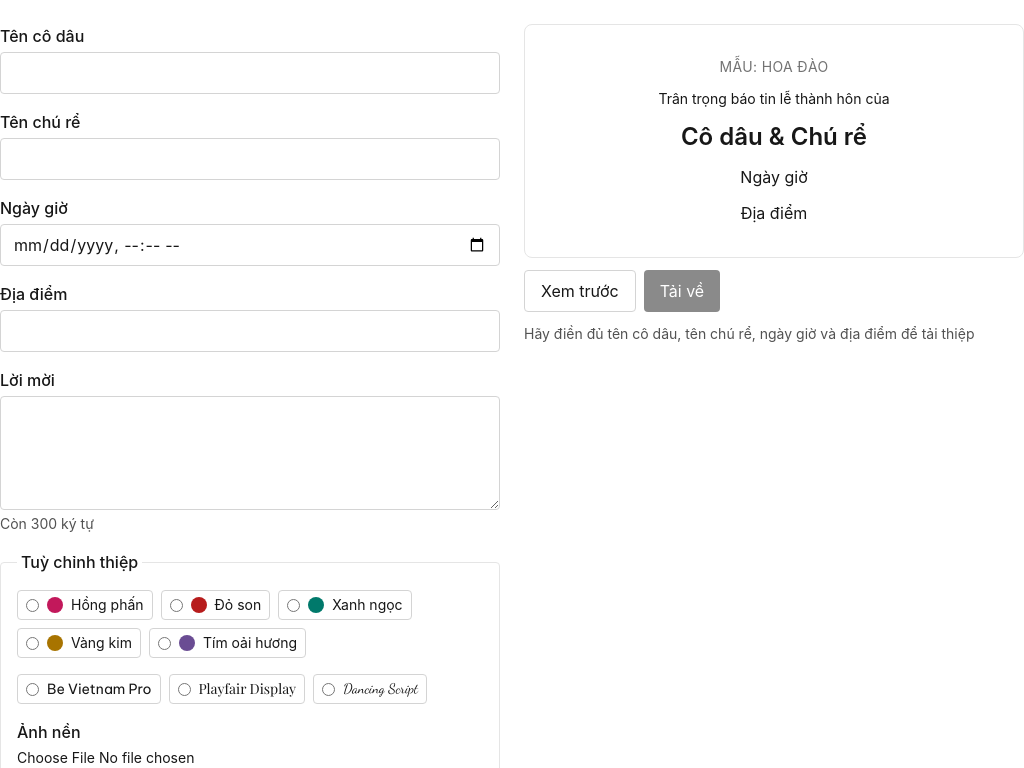
Scenario: Xem trước opens the invitation full screen and Esc returns with input kept
In the field labelled "Tên cô dâu": (250, 73) [0, 52, 500, 94], type "Nguyễn Thị Hằng"
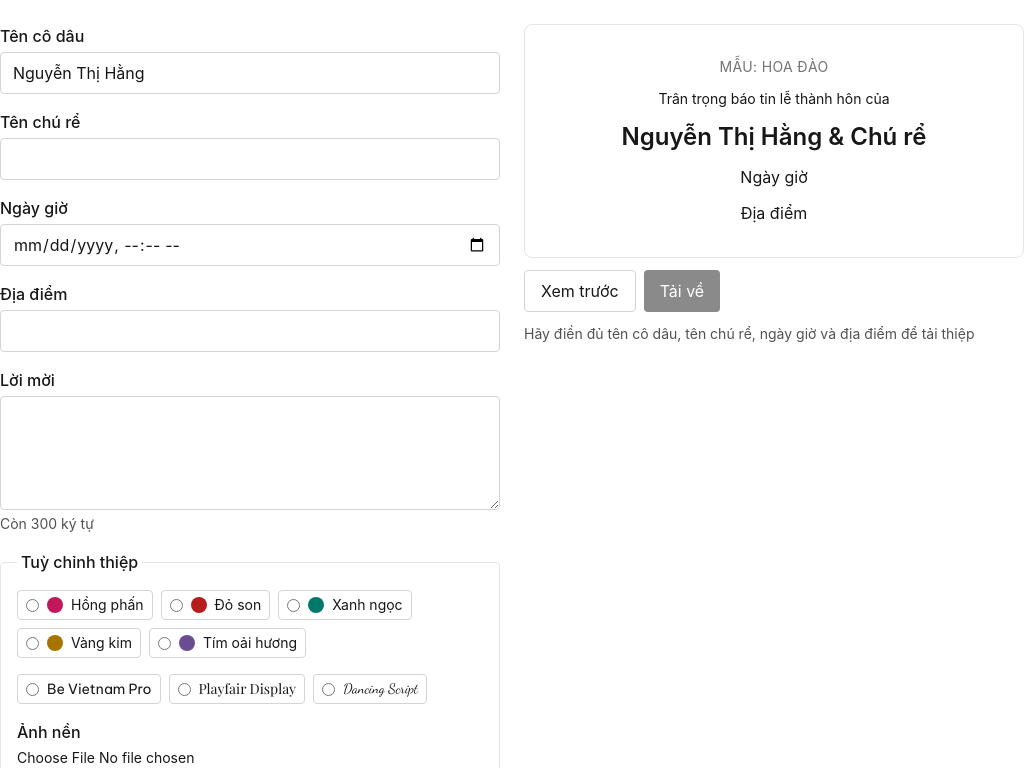
In the field labelled "Tên chú rể": (250, 159) [0, 138, 500, 180], type "Trần Văn Đức"
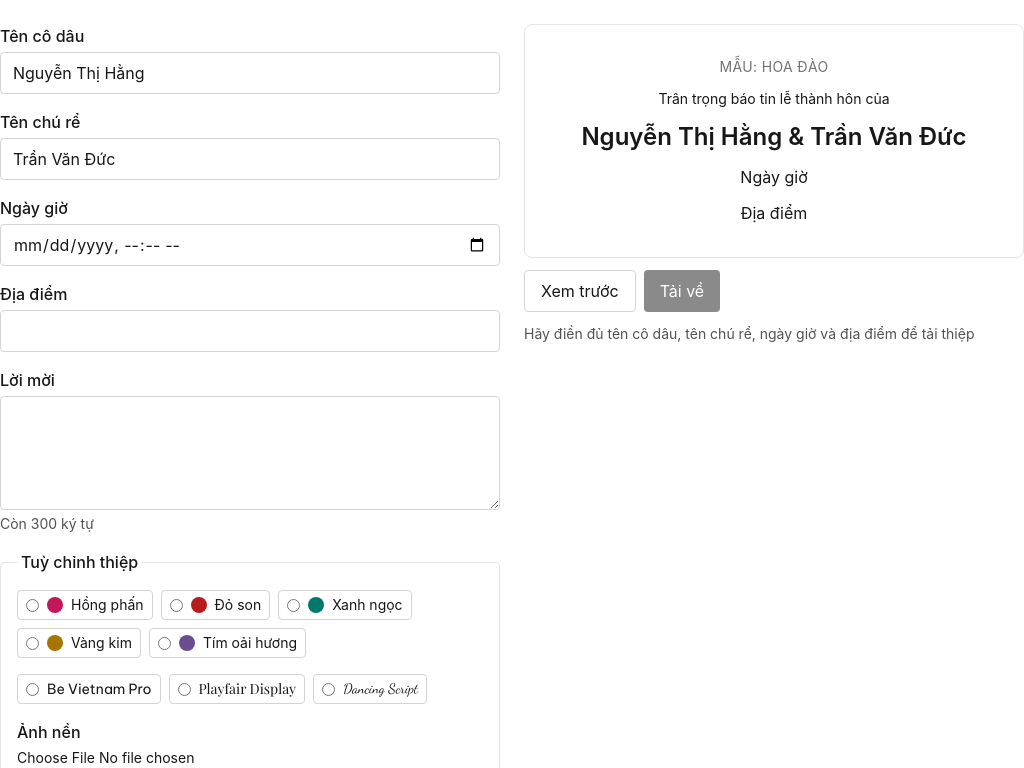
In the field labelled "Ngày giờ": (250, 245) [0, 224, 500, 266], type "2026-12-20T18:00"
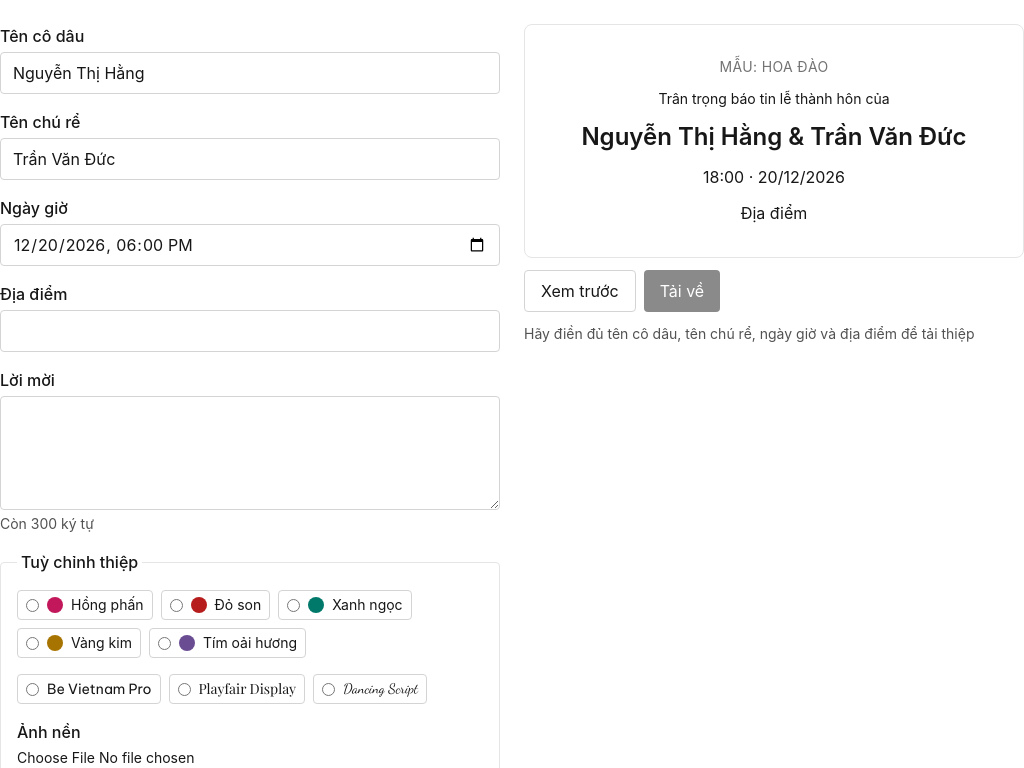
In the field labelled "Địa điểm": (250, 331) [0, 310, 500, 352], type "Hà Nội"
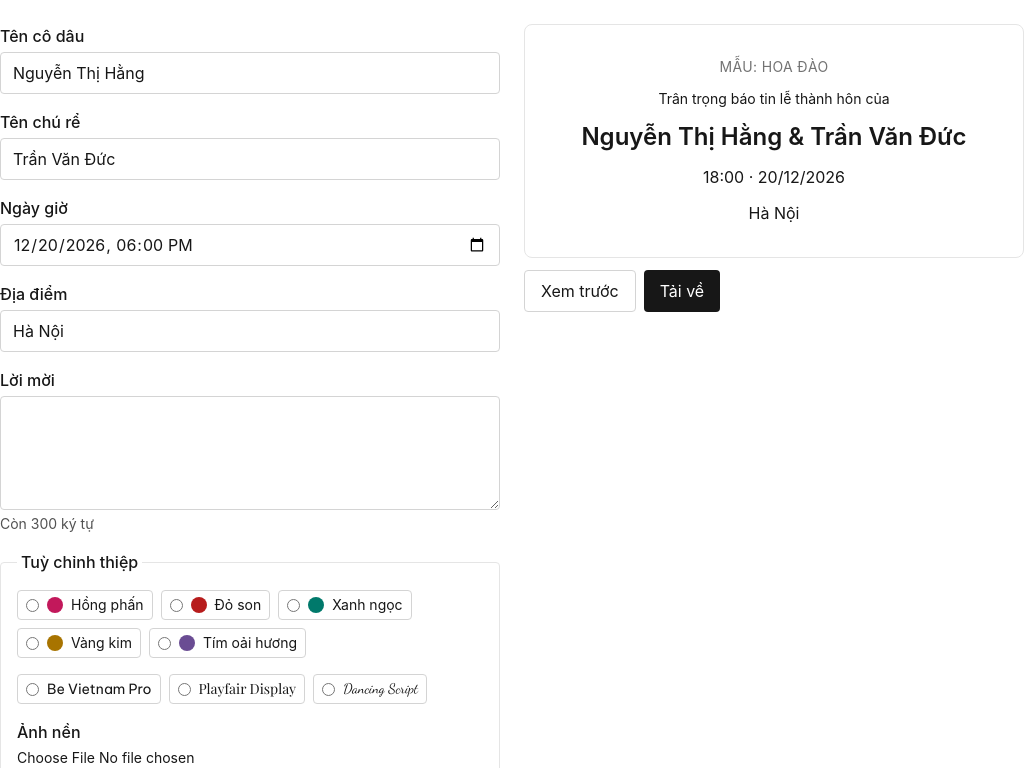
Click the button "Xem trước": (580, 291) [524, 270, 636, 312]
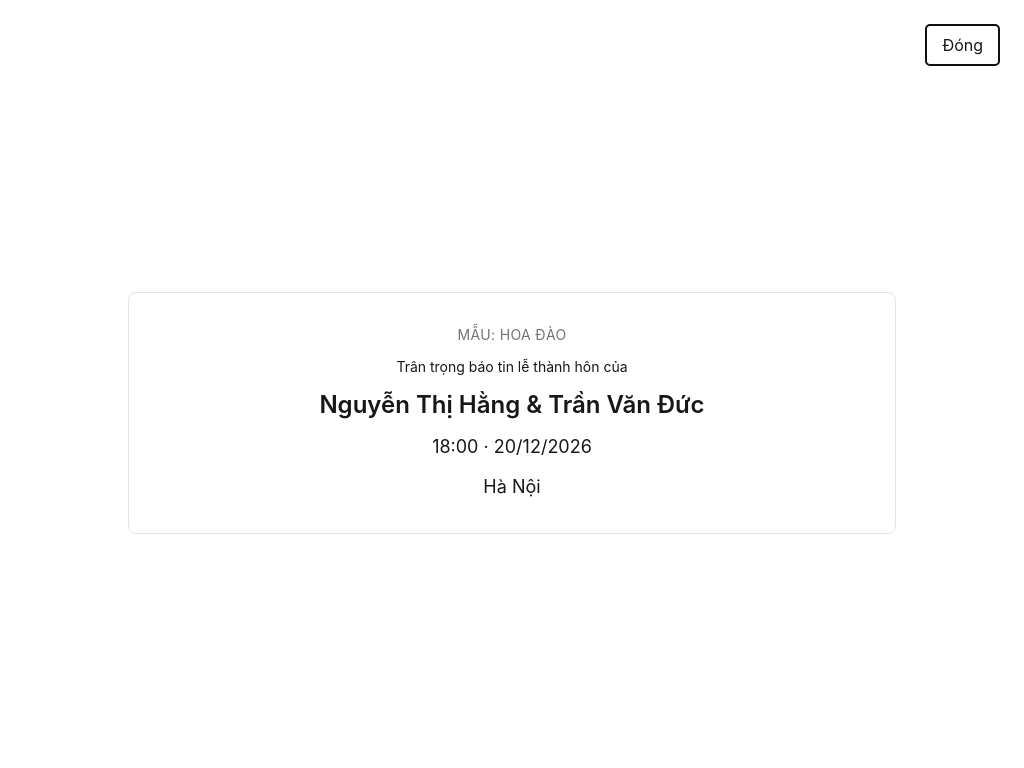
Result: the dialog named "Xem trước toàn màn hình" shows "Nguyễn Thị Hằng" at [319, 390, 520, 419]
Press Escape
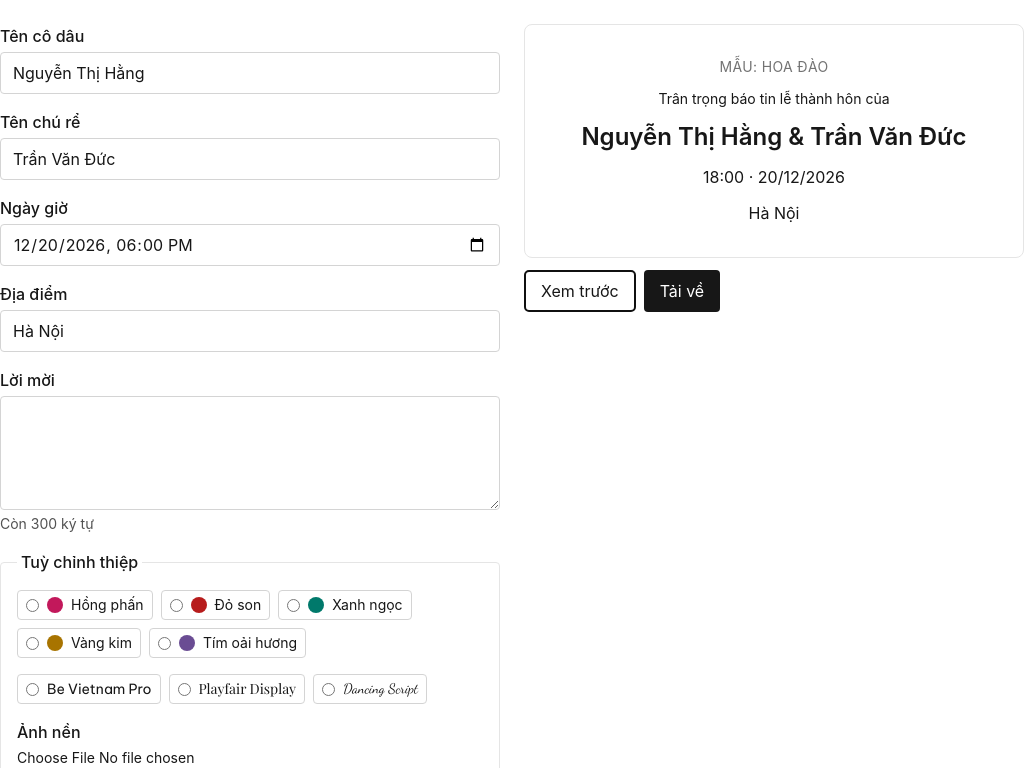
Result: the dialog is gone
